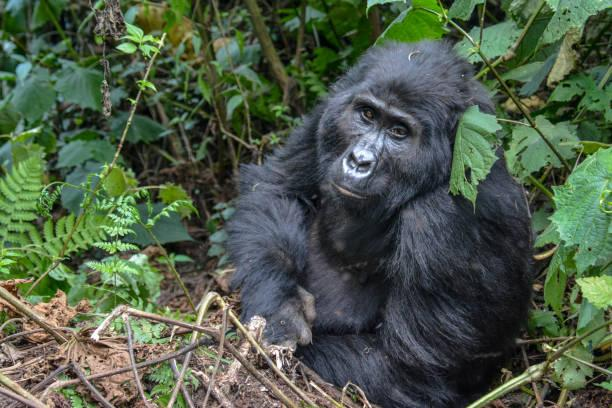goriile_montagne: (199, 0, 552, 400)
